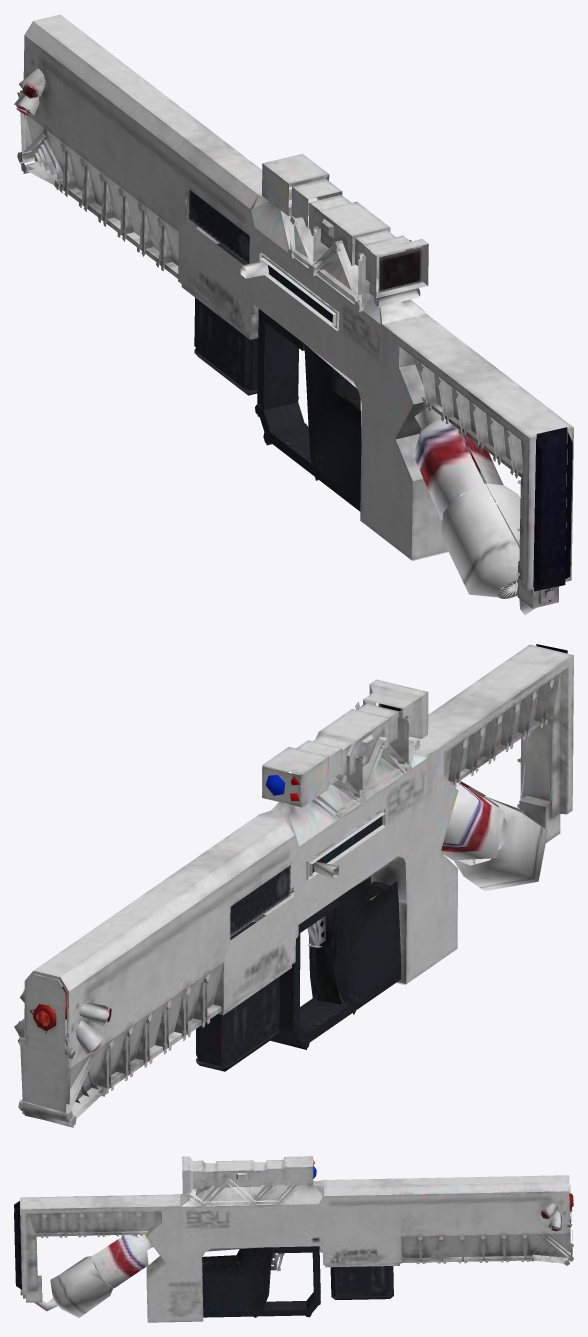
3 renders of one model, top to bottom at view 1: azimuth 30°, elevation 25°; view 2: azimuth 150°, elevation 25°; view 3: azimuth 270°, elevation 25°, orthographic. The views are drawn at different scales.
Visible parts, largest first — view 1: defaultMaterial; view 2: defaultMaterial; view 3: defaultMaterial.
Boxes of the visible parts, x1,y1,x2,y2 form: defaultMaterial: [14, 14, 573, 615]; defaultMaterial: [14, 644, 573, 1127]; defaultMaterial: [14, 1156, 573, 1322].
Size of the model in its own units: 0.1015 by 0.3074 by 1.
Materials: 1 (1 with a texture image).
